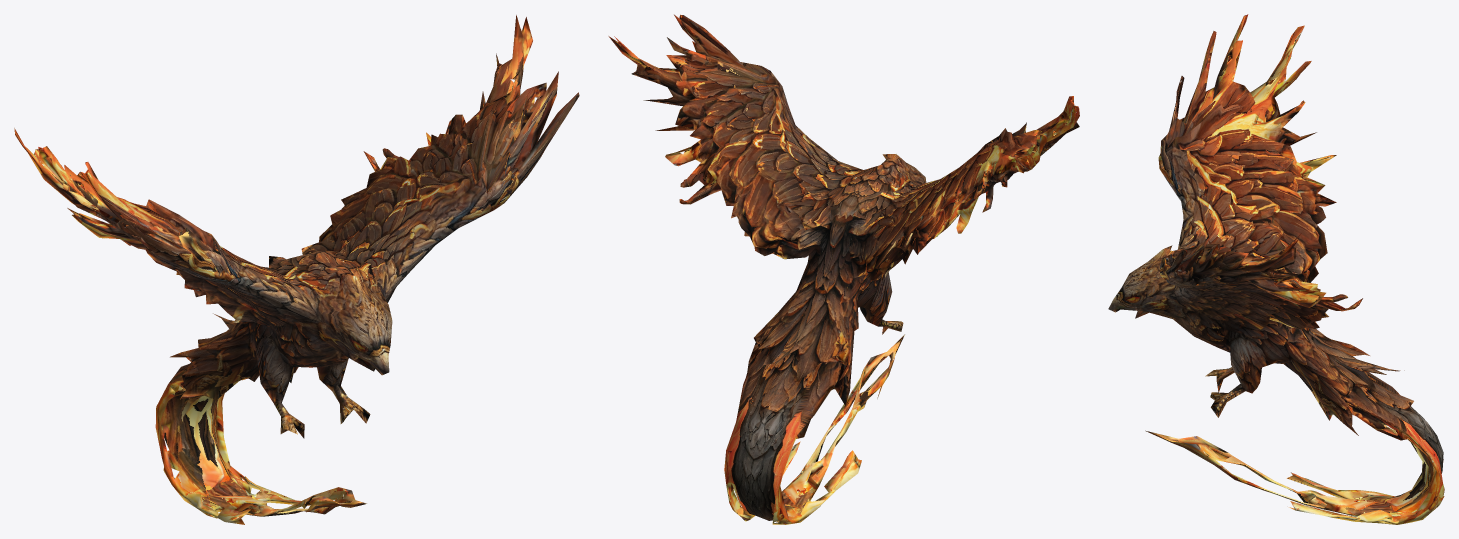
The model's file is FireHawk.glb.
The picture shows the model from 3 angles, left to right: view 1: azimuth 30°, elevation 25°; view 2: azimuth 150°, elevation 25°; view 3: azimuth 270°, elevation 25°; orthographic projection. The views are drawn at different scales.
Parts seen in each view (by area): view 1: texture_mapping; view 2: texture_mapping; view 3: texture_mapping.
Part boxes in pixels (<box>): texture_mapping: <box>14,15,579,524</box>; texture_mapping: <box>608,14,1079,524</box>; texture_mapping: <box>1108,14,1444,524</box>.
Size of the model in its own units: 0.9631 by 0.8487 by 0.6553.
Materials: 1 (1 with a texture image).
